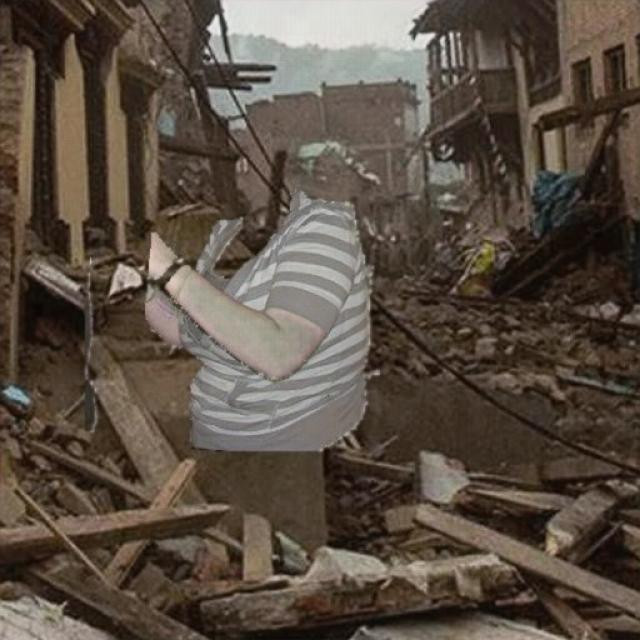Person in Rubble: (85, 189, 380, 450)
